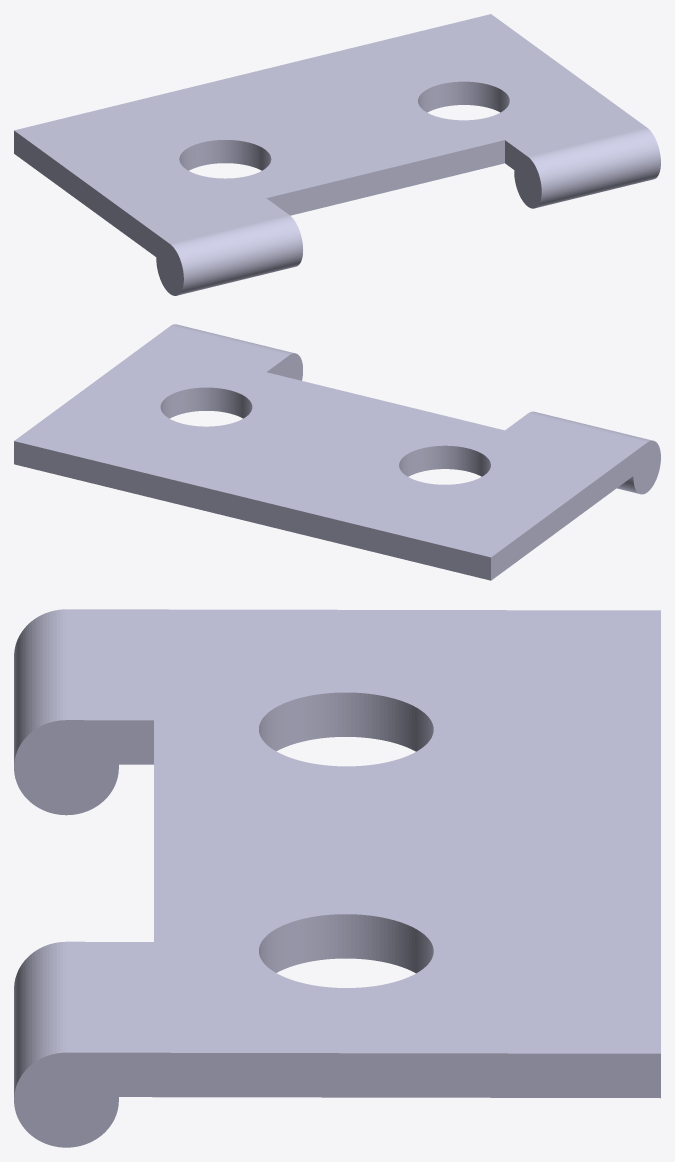
File: hingeb.dae
The picture shows the model from 3 angles, top to bottom: view 1: azimuth 30°, elevation 25°; view 2: azimuth 150°, elevation 25°; view 3: azimuth 270°, elevation 25°; orthographic projection. The views are drawn at different scales.
Visible parts, largest first — view 1: node0; view 2: node0; view 3: node0.
Boxes of the visible parts, x1=… form: node0: x1=14, y1=14, x2=660, y2=295; node0: x1=14, y1=324, x2=660, y2=580; node0: x1=14, y1=609, x2=660, y2=1147.
Size of the model in its own units: 0.03 by 0.0185 by 0.003.
